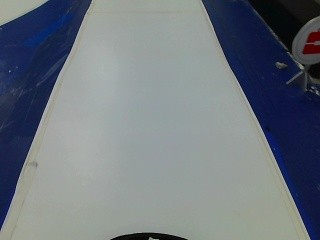company: (292, 17, 318, 69)
